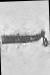U15: (3, 0, 47, 74)
